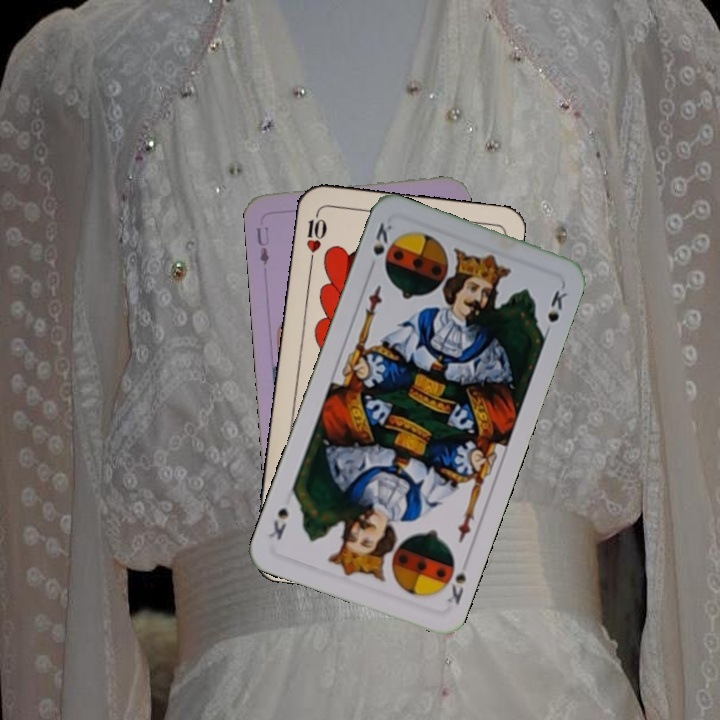EU: (252, 222, 272, 268)
H10: (302, 208, 330, 267)
SK: (441, 568, 469, 607), (368, 218, 395, 258)
